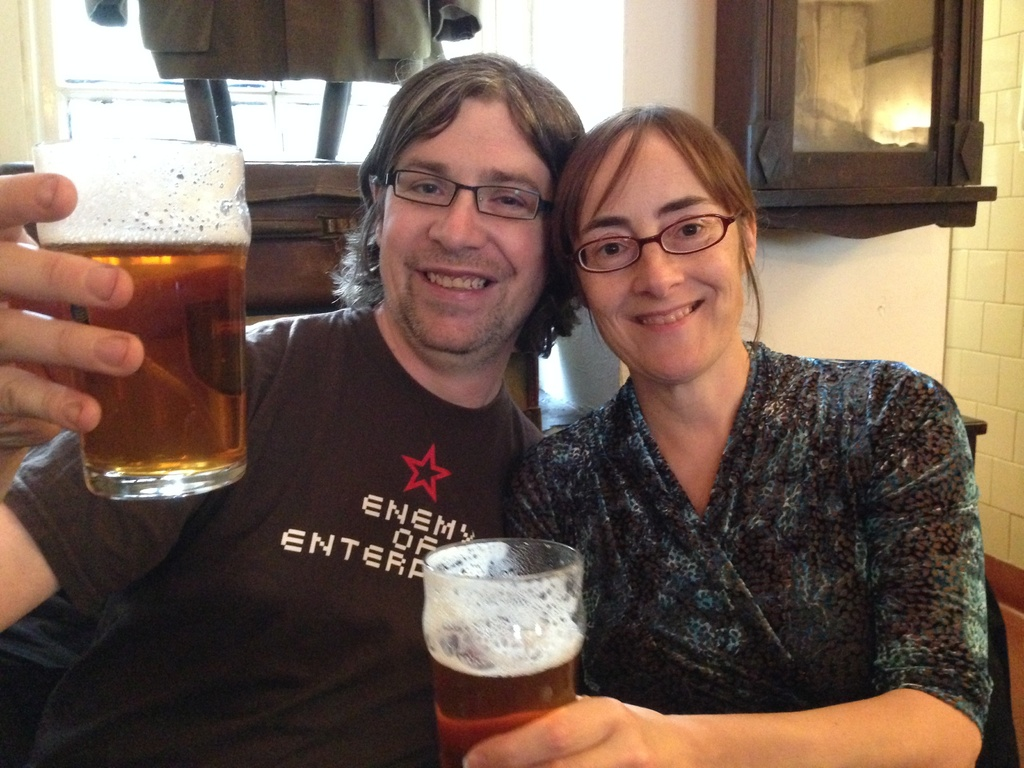Beer: (31, 136, 253, 496), (429, 582, 582, 767)
